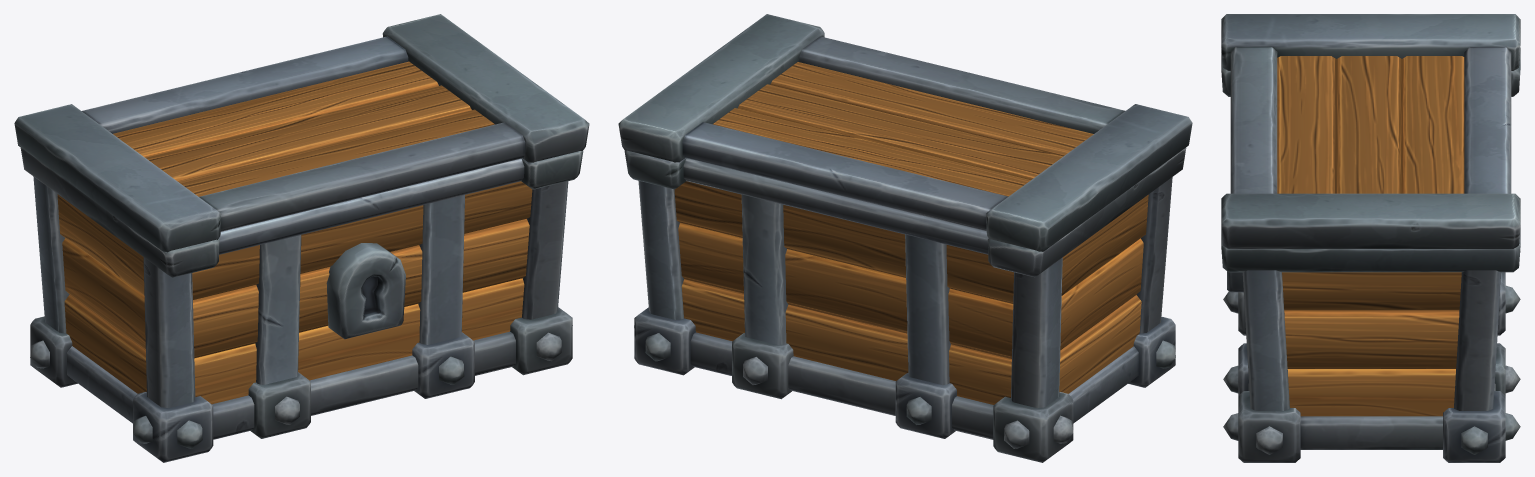
File: SM_Chest_Wooden_E_WithCoins.fbx
The picture shows the model from 3 angles, left to right: view 1: azimuth 30°, elevation 25°; view 2: azimuth 150°, elevation 25°; view 3: azimuth 270°, elevation 25°; orthographic projection.
Visible parts, largest first — view 1: SM_Chest_Wooden_E_WithCoins, SM_Chest_Wooden_E_Lid_WithCoins; view 2: SM_Chest_Wooden_E_WithCoins, SM_Chest_Wooden_E_Lid_WithCoins; view 3: SM_Chest_Wooden_E_Lid_WithCoins, SM_Chest_Wooden_E_WithCoins.
Boxes of the visible parts, box(x1,y1,x2,y2) form: SM_Chest_Wooden_E_WithCoins: box(20, 148, 583, 462); SM_Chest_Wooden_E_Lid_WithCoins: box(14, 14, 589, 252); SM_Chest_Wooden_E_WithCoins: box(624, 147, 1186, 462); SM_Chest_Wooden_E_Lid_WithCoins: box(618, 14, 1192, 251); SM_Chest_Wooden_E_Lid_WithCoins: box(1221, 14, 1520, 248); SM_Chest_Wooden_E_WithCoins: box(1221, 48, 1520, 462).
Size of the model in its own units: 92.62 by 49.96 by 54.71.
